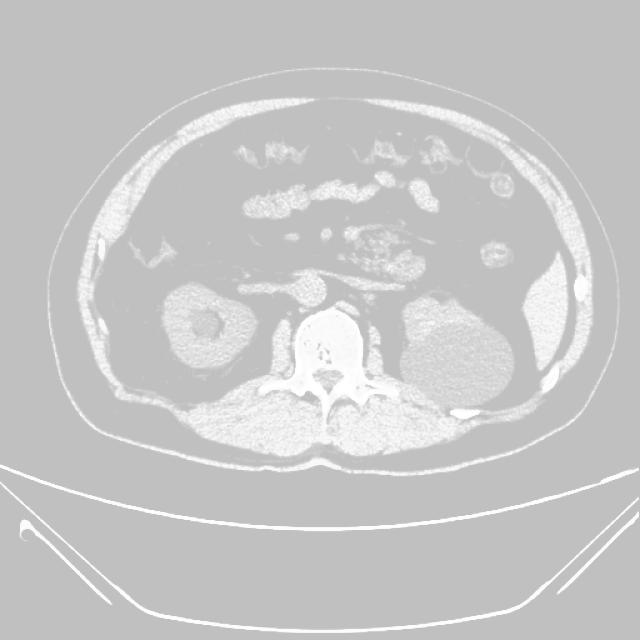cysts: (65, 80, 605, 472)
